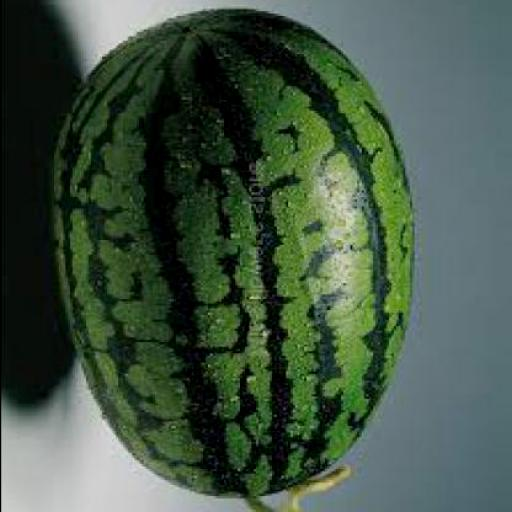biodegradable: (48, 11, 416, 506)
